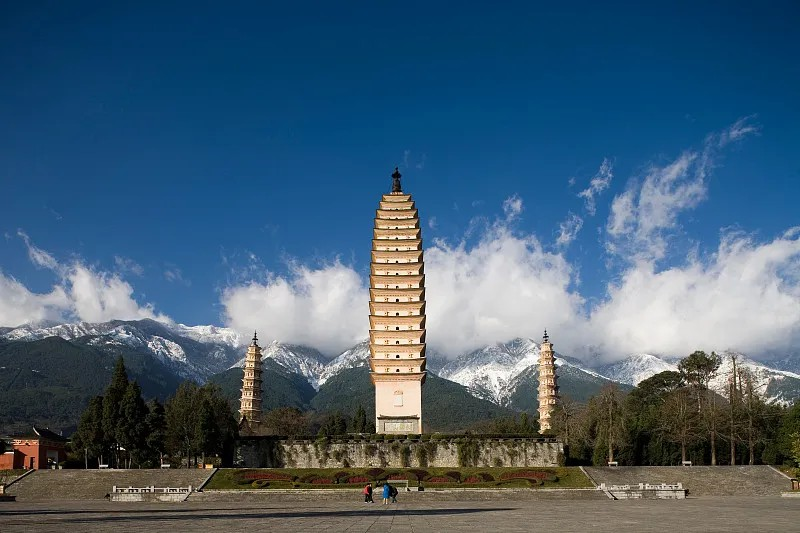ThreePagoda: (367, 165, 427, 435)
